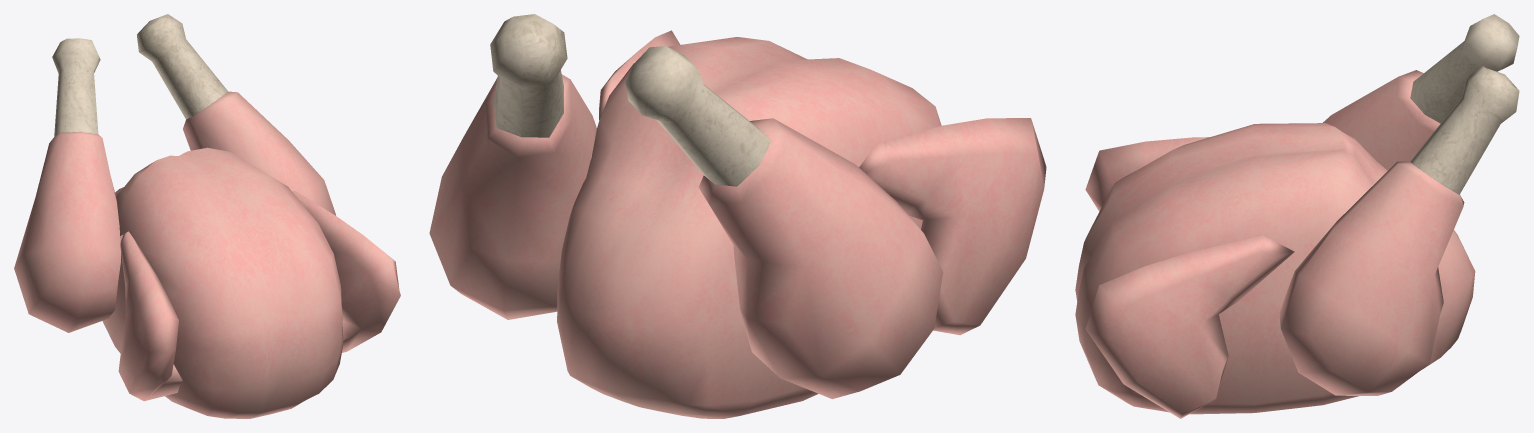
The model's file is chicken.fbx.
3 views of the same model, side by side, from view 1: azimuth 30°, elevation 25°; view 2: azimuth 150°, elevation 25°; view 3: azimuth 270°, elevation 25° (orthographic). The views are drawn at different scales.
Visible parts, largest first — view 1: chicken; view 2: chicken; view 3: chicken.
Part boxes in pixels (box(x1,y1,x2,y2)): chicken: box(14, 14, 400, 418); chicken: box(429, 14, 1046, 418); chicken: box(1075, 14, 1519, 418).
Bounding box in the file's own units: 28.08 × 25.32 × 29.82.
